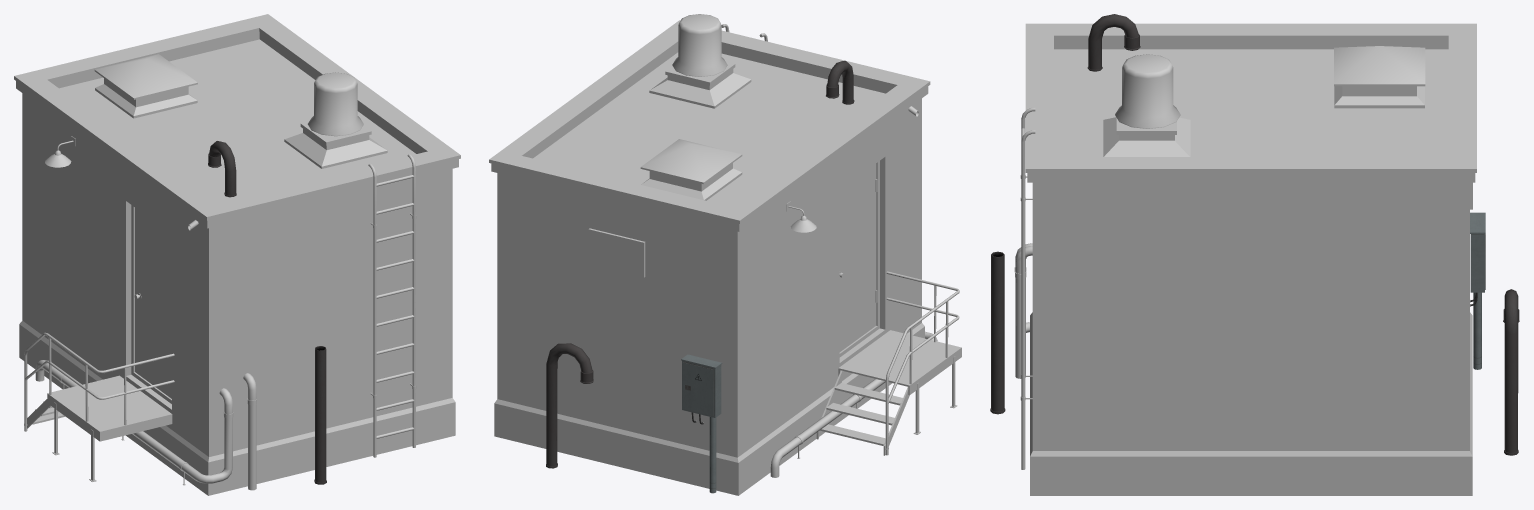
File: sm_guard_post_001.FBX
3 renders of one model, left to right at view 1: azimuth 30°, elevation 25°; view 2: azimuth 150°, elevation 25°; view 3: azimuth 270°, elevation 25°, orthographic. The views are drawn at different scales.
Visible parts, largest first — view 1: sm_guard_post_001; view 2: sm_guard_post_001; view 3: sm_guard_post_001.
Part boxes in pixels (bbox=[...]): sm_guard_post_001: bbox=[14, 14, 460, 495]; sm_guard_post_001: bbox=[489, 14, 961, 495]; sm_guard_post_001: bbox=[990, 14, 1519, 495].
Size of the model in its own units: 349 by 345 by 421.
